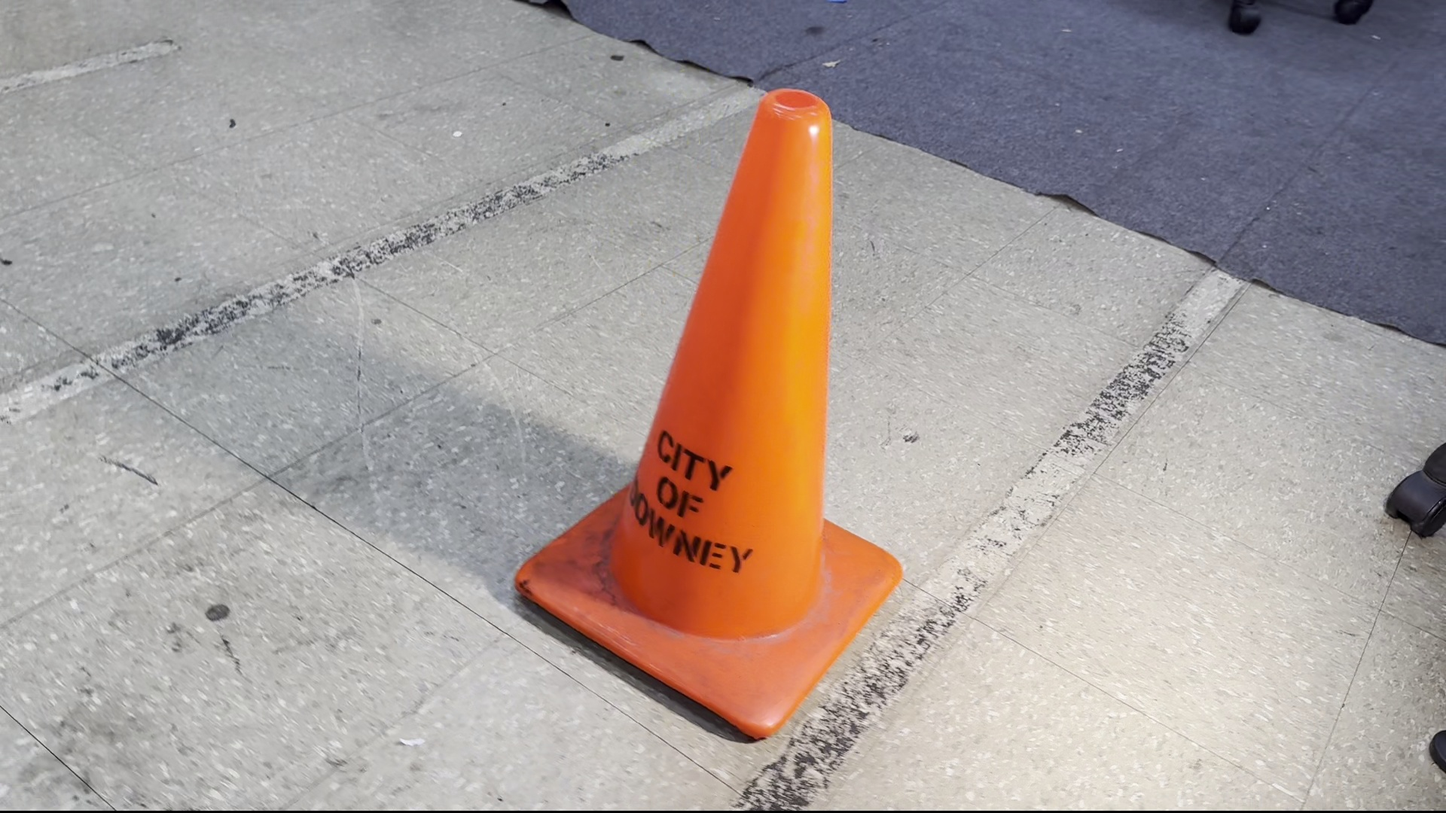traffic_cone: (513, 86, 904, 741)
